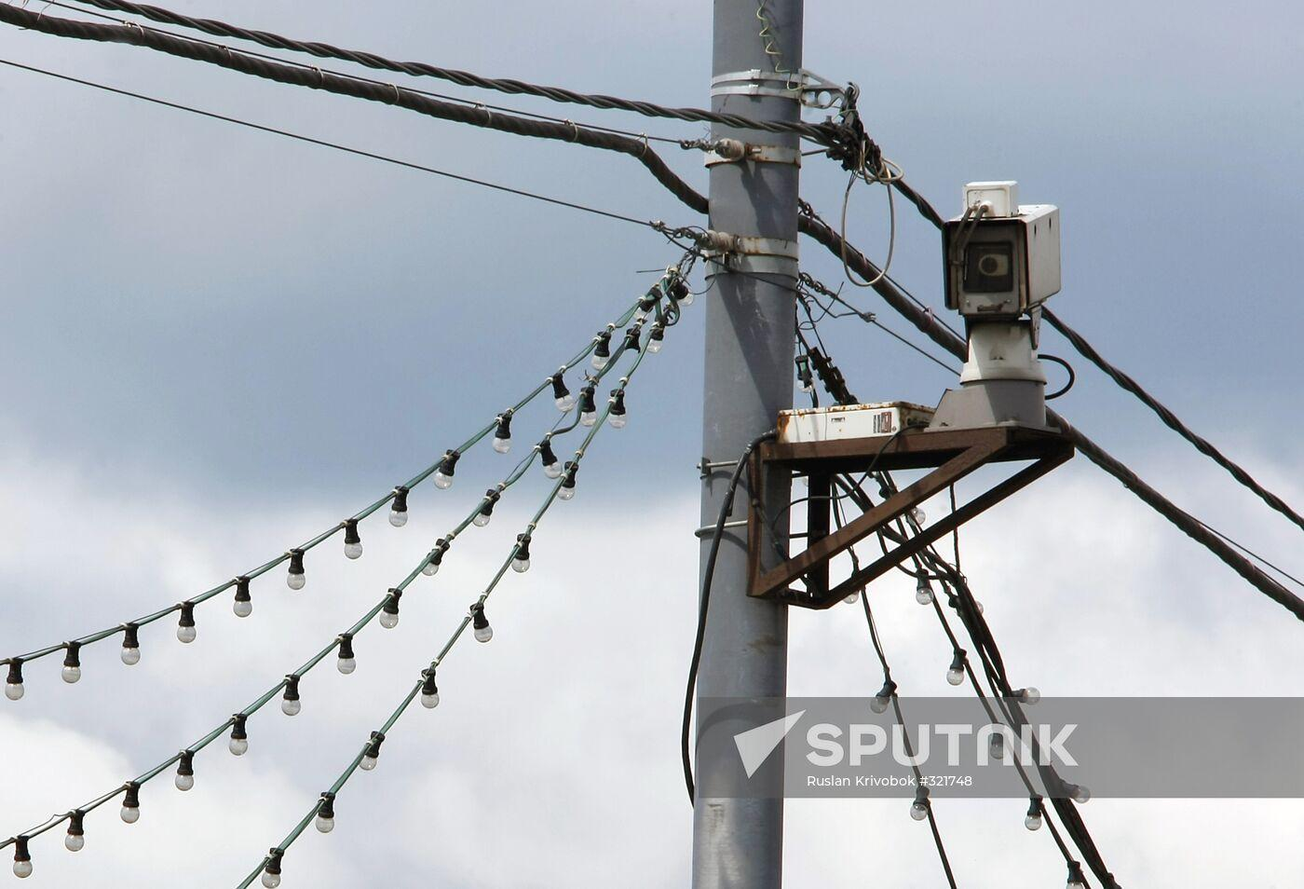Monitor: (940, 180, 1062, 320)
